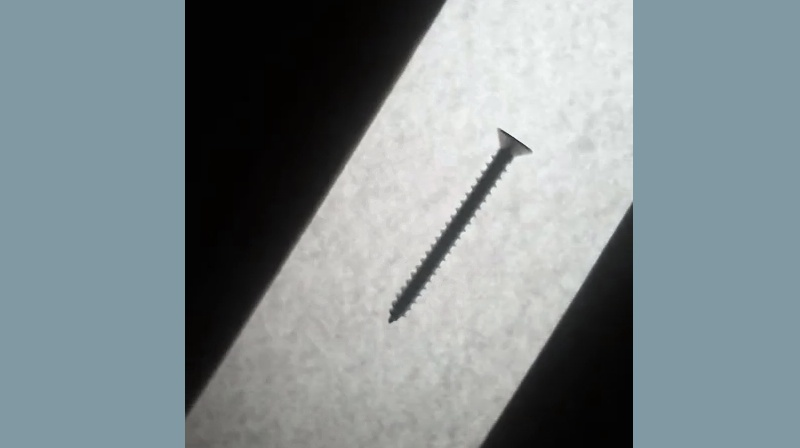S002: (386, 124, 535, 327)
